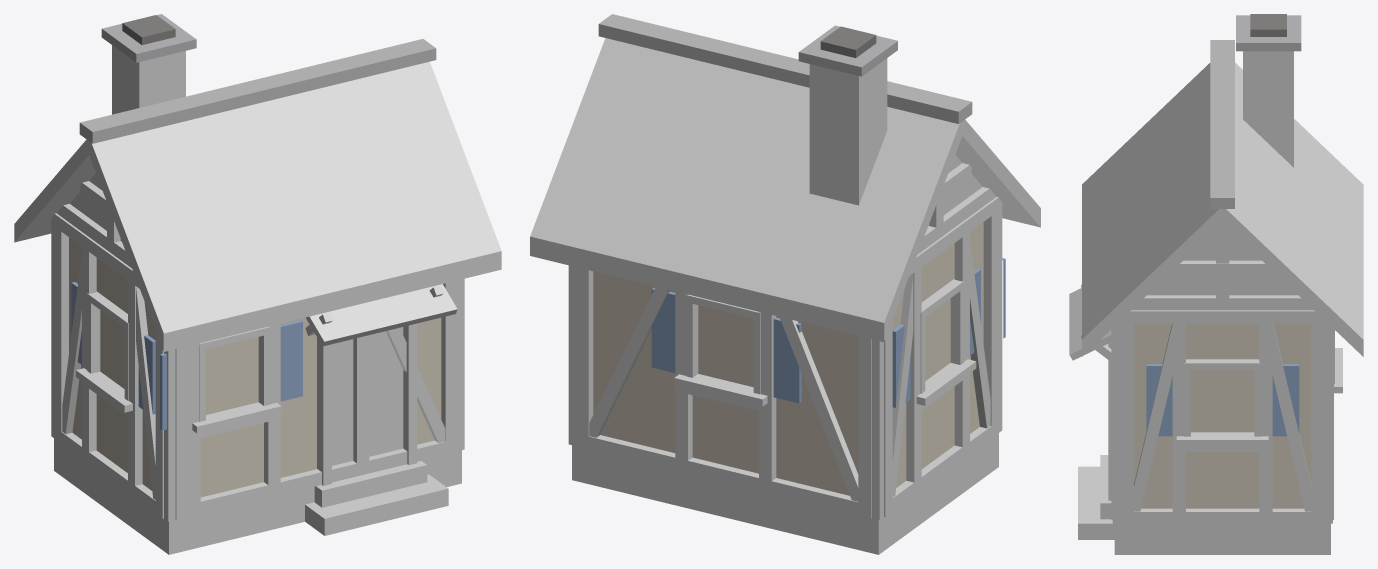
File: house_2.glb
The picture shows the model from 3 angles, left to right: view 1: azimuth 30°, elevation 25°; view 2: azimuth 150°, elevation 25°; view 3: azimuth 270°, elevation 25°; orthographic projection. The views are drawn at different scales.
Bounding box in the file's own units: 3.66 × 4.62 × 2.88.
